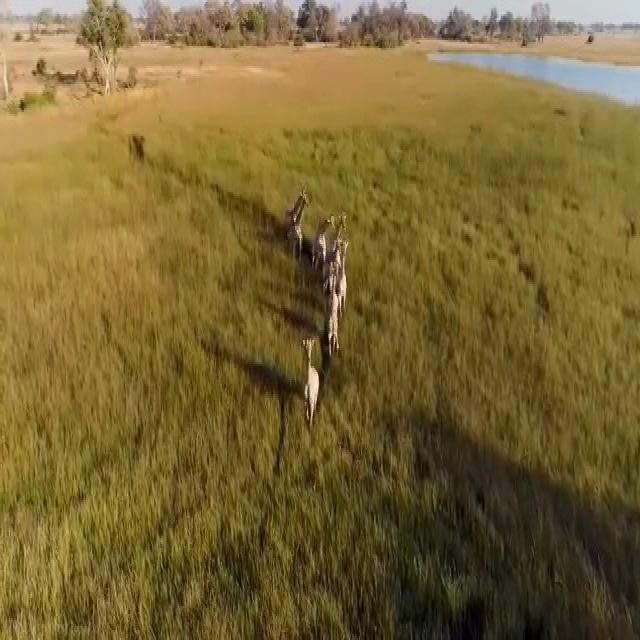Girraffe: (302, 330, 321, 436), (328, 263, 346, 366), (288, 182, 306, 258), (331, 215, 346, 294), (315, 212, 332, 279)
